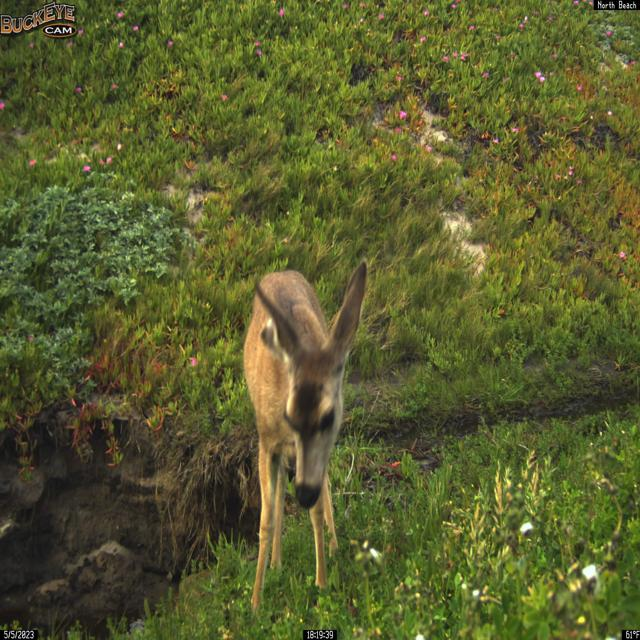deer: (242, 259, 368, 617)
